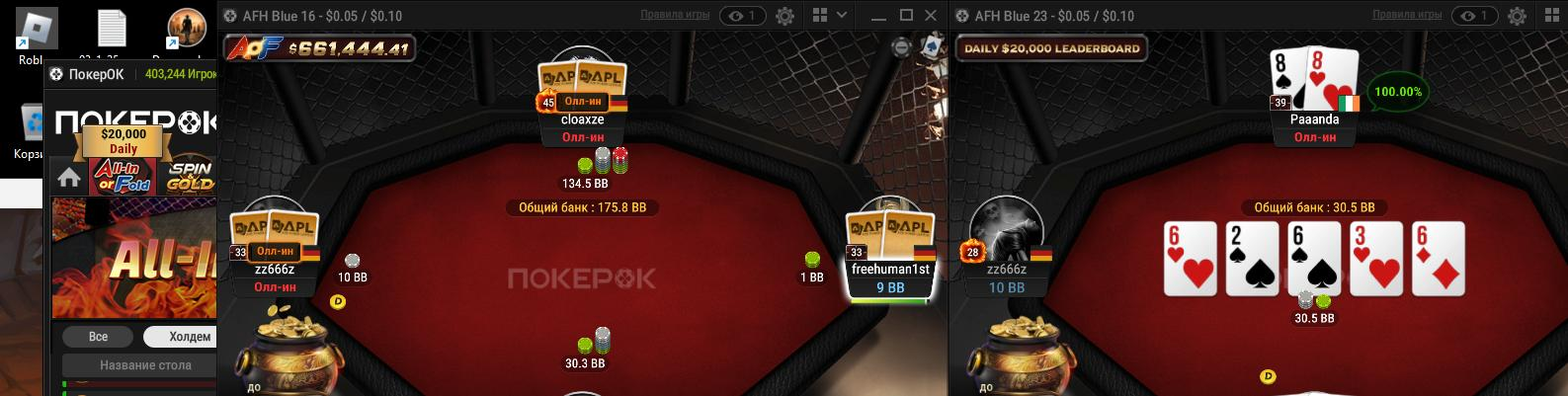2s: (1227, 221, 1278, 297)
3h: (1350, 222, 1403, 295)
6d: (1412, 223, 1464, 295)
6h: (1165, 222, 1215, 296)
6s: (1288, 222, 1341, 295)
8h: (1307, 47, 1359, 112)
8s: (1270, 48, 1307, 110)
